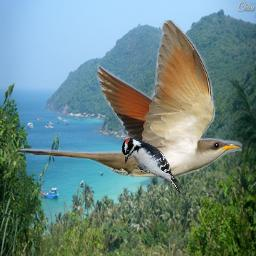Cuckoo: (16, 20, 242, 177)
Woodpecker: (121, 137, 183, 196)
